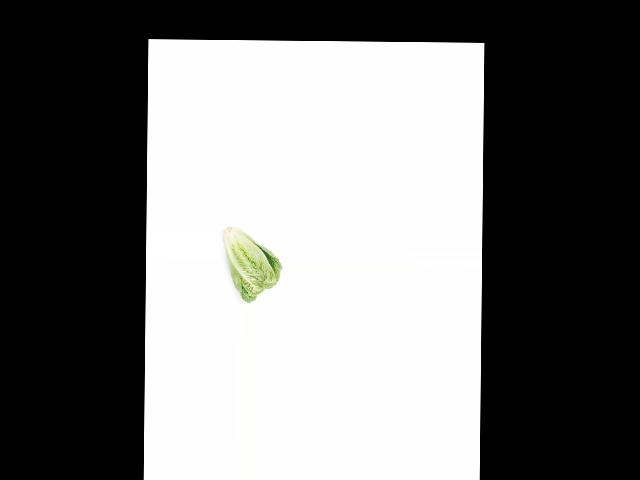lettuce: (221, 225, 282, 302)
